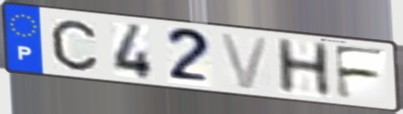2: (162, 26, 217, 90)
4: (110, 22, 155, 81)
C: (48, 18, 100, 73)
F: (330, 43, 388, 102)
H: (272, 36, 335, 98)
V: (216, 31, 273, 92)
